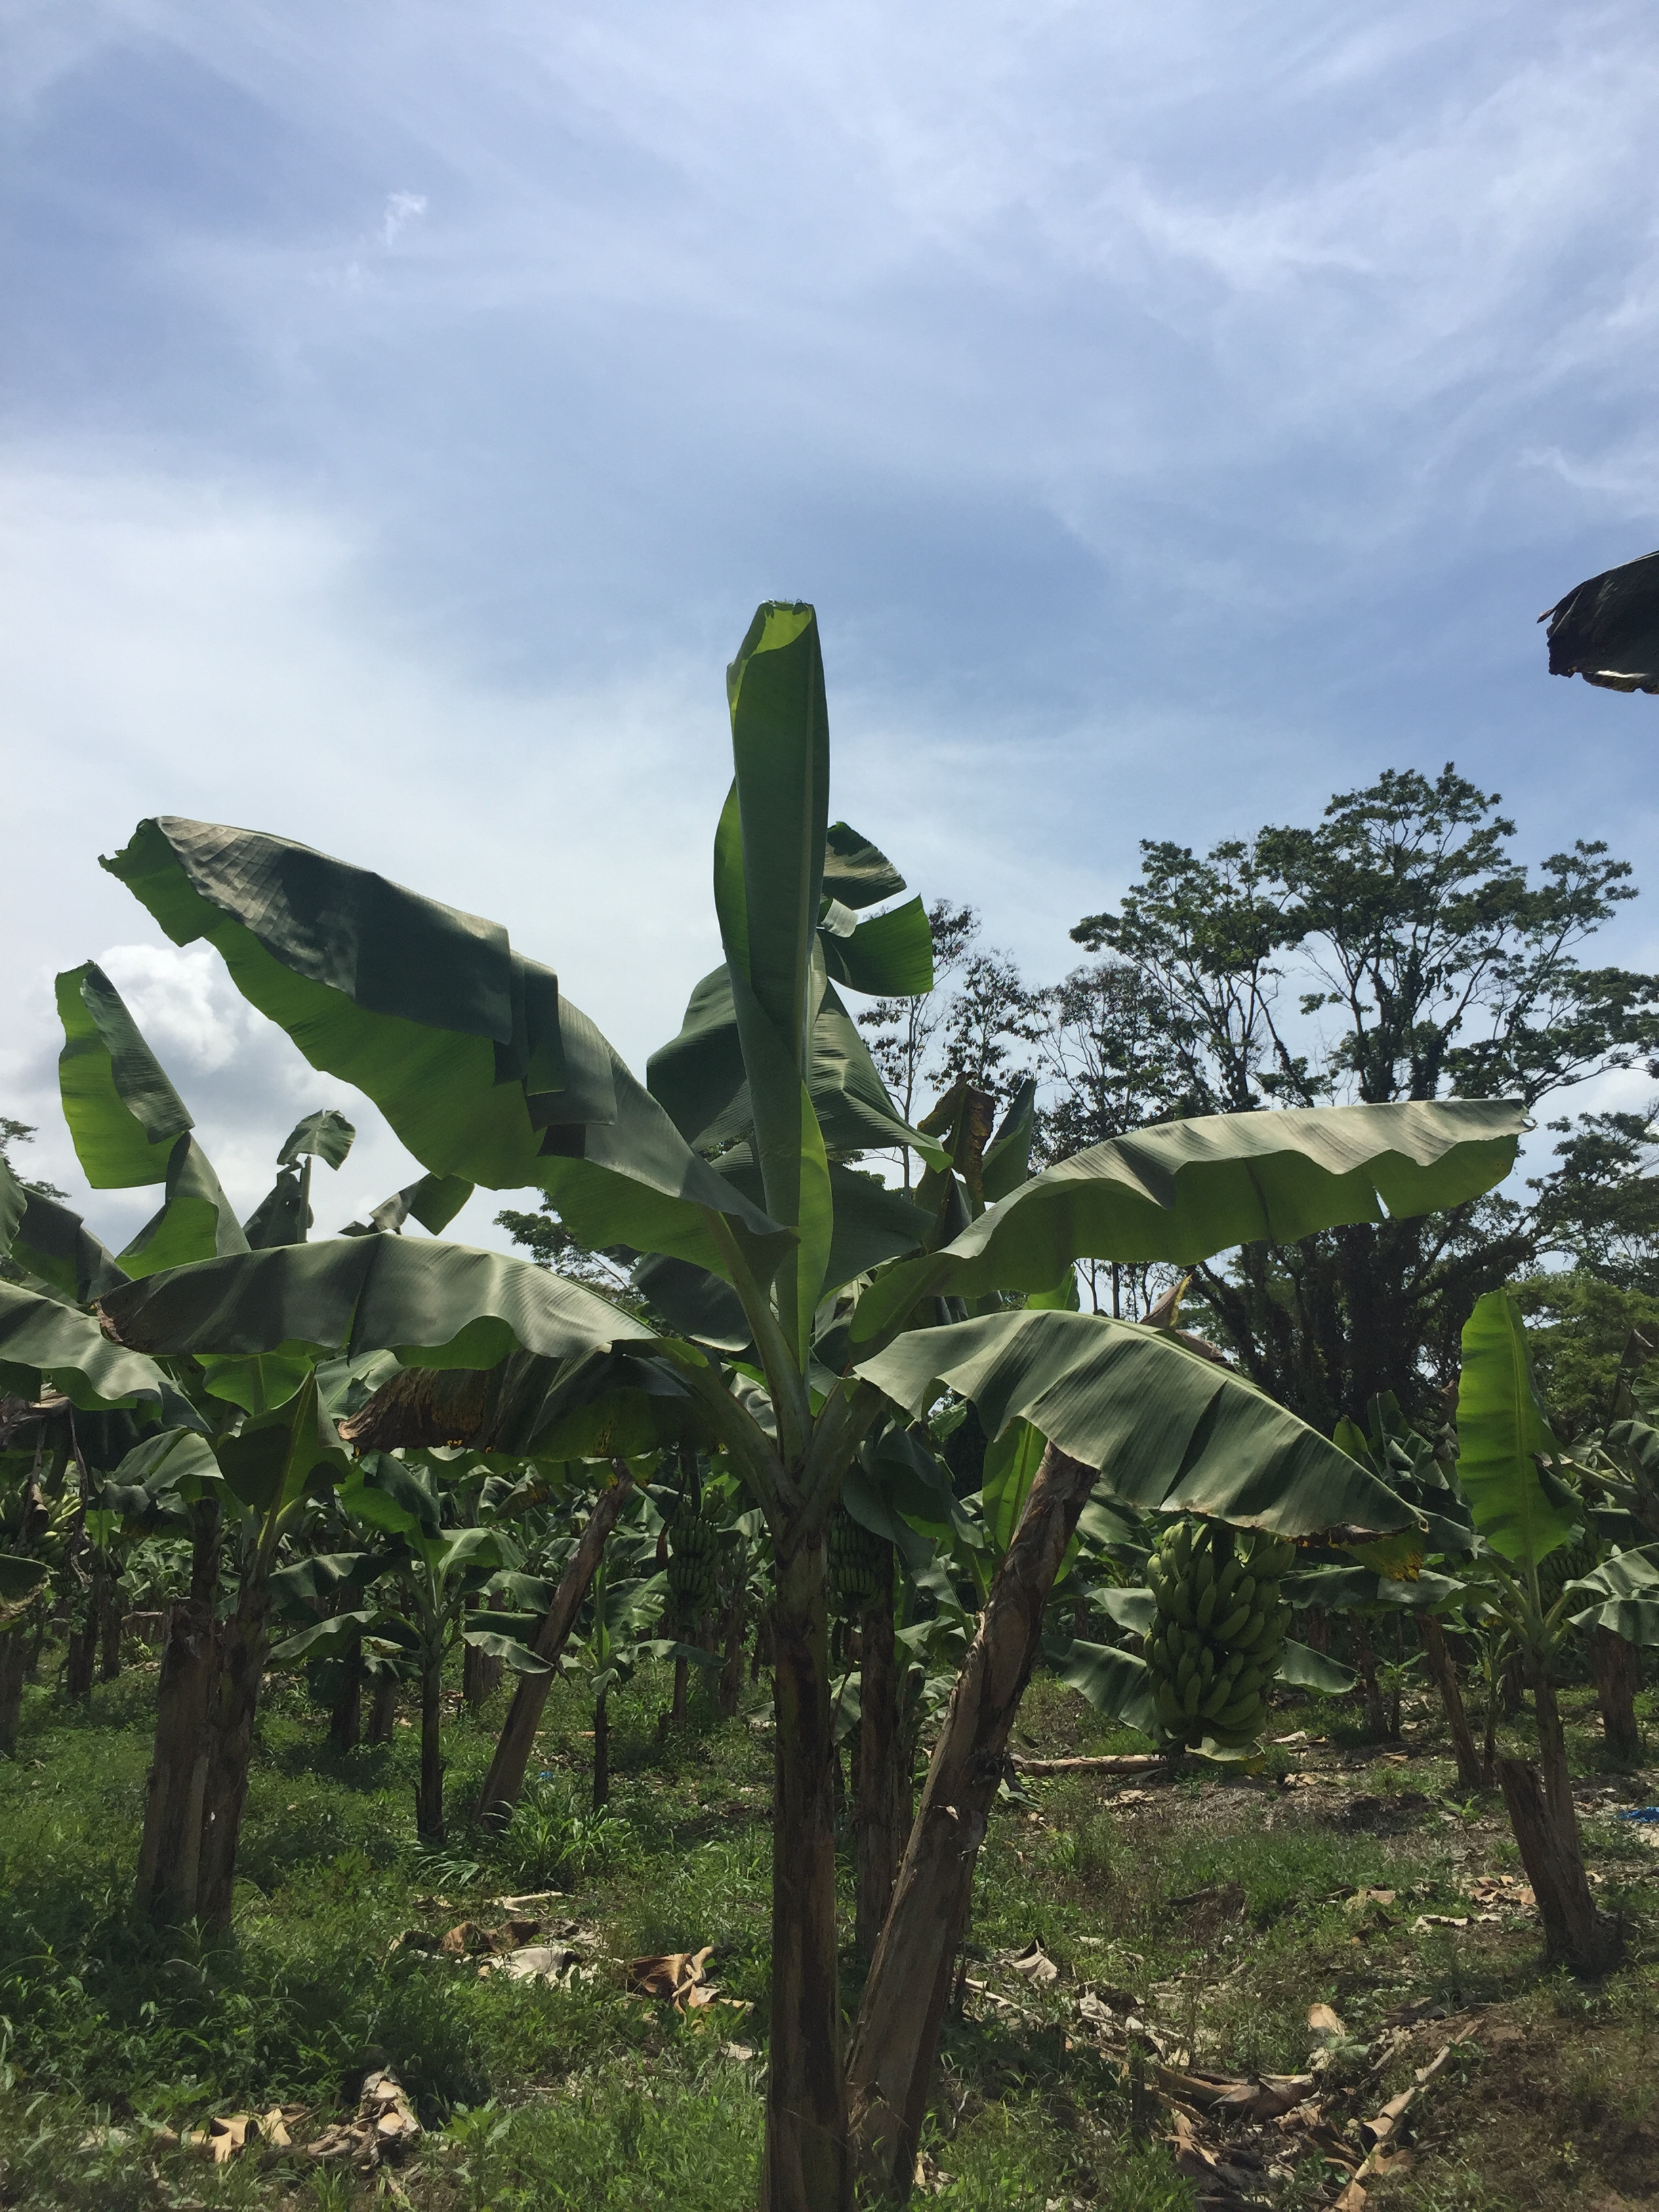candleleafs: (711, 603, 835, 1362)
